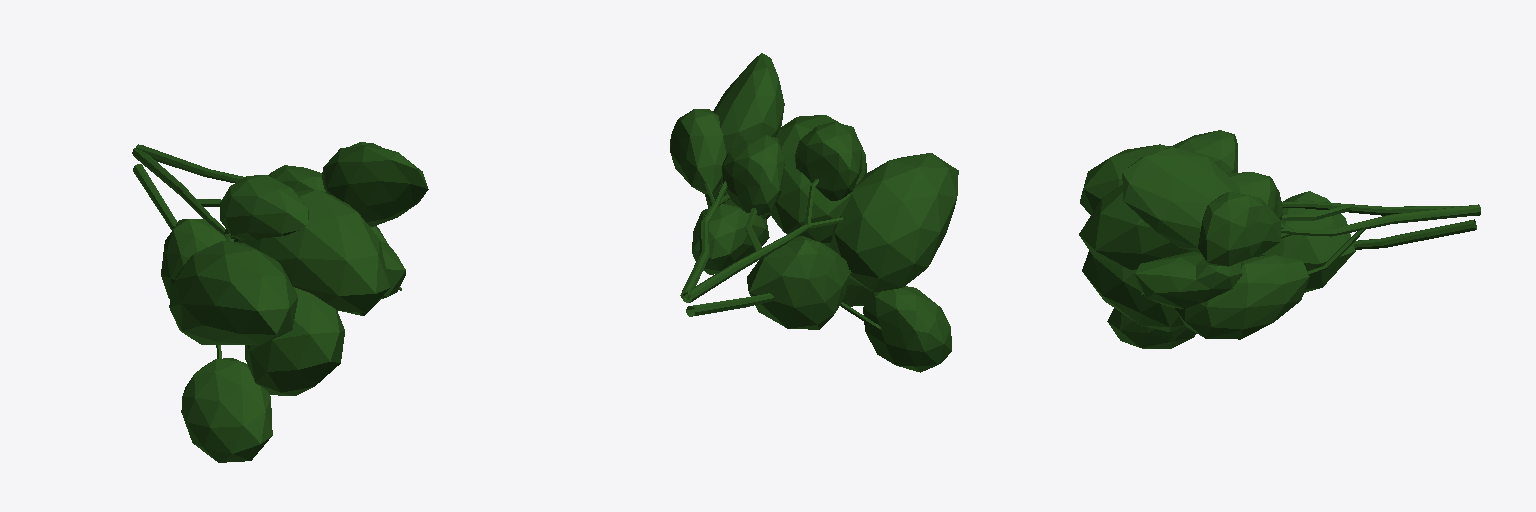
File: birch3.obj
3 renders of one model, left to right at view 1: azimuth 30°, elevation 25°; view 2: azimuth 150°, elevation 25°; view 3: azimuth 270°, elevation 25°, orthographic.
Visible parts, largest first — view 1: Birch3; view 2: Birch3; view 3: Birch3.
Boxes of the visible parts, x1=… form: Birch3: x1=132, y1=142, x2=428, y2=462; Birch3: x1=670, y1=53, x2=958, y2=372; Birch3: x1=1079, y1=130, x2=1480, y2=348.
Bounding box in the file's own units: 4.9 × 5.13 × 6.9.